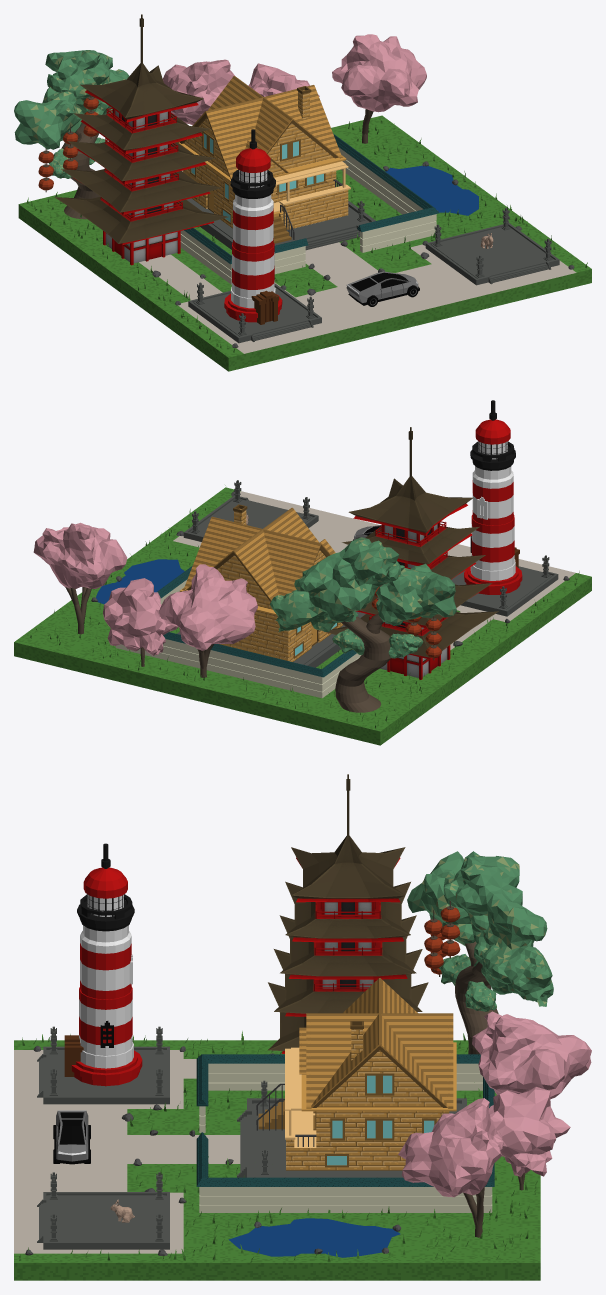
3 renders of one model, top to bottom at view 1: azimuth 30°, elevation 25°; view 2: azimuth 150°, elevation 25°; view 3: azimuth 270°, elevation 25°, orthographic. The views are drawn at different scales.
Visible parts, largest first — view 1: Cube.005, Cube.508, OBJRANDOM_LIGHTHOUSE, VEHICLES_CYBERTRUCK; view 2: Cube.005, Cube.508, OBJRANDOM_LIGHTHOUSE; view 3: Cube.005, Cube.508, OBJRANDOM_LIGHTHOUSE, VEHICLES_CYBERTRUCK.
Part boxes in pixels (left/top/right/bottom): Cube.005: left=14, top=14, right=591, bottom=371; Cube.508: left=177, top=76, right=350, bottom=243; OBJRANDOM_LIGHTHOUSE: left=224, top=129, right=282, bottom=324; VEHICLES_CYBERTRUCK: left=346, top=271, right=419, bottom=306; Cube.005: left=14, top=427, right=591, bottom=745; Cube.508: left=179, top=504, right=343, bottom=661; OBJRANDOM_LIGHTHOUSE: left=464, top=400, right=522, bottom=594; Cube.005: left=14, top=774, right=591, bottom=1280; Cube.508: left=256, top=978, right=456, bottom=1170; OBJRANDOM_LIGHTHOUSE: left=64, top=843, right=142, bottom=1086; VEHICLES_CYBERTRUCK: left=53, top=1110, right=90, bottom=1164.
Bounding box in the file's own units: 4528 × 2693 × 4389.
42 materials, 6 textured.
